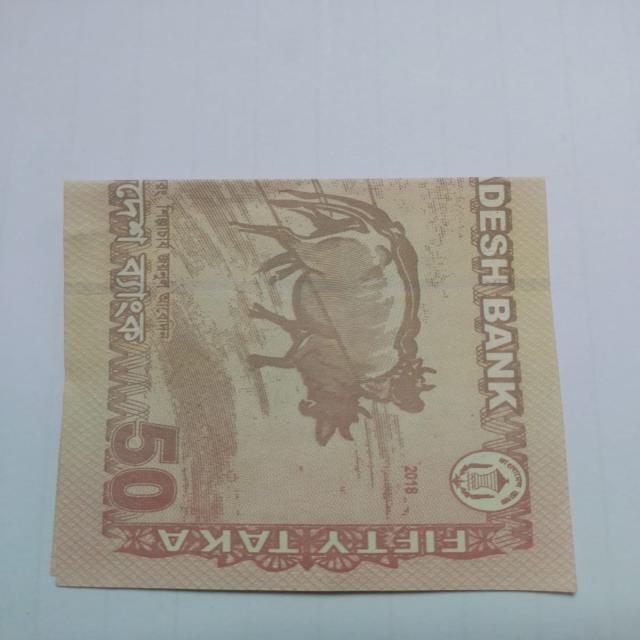Taka: (55, 171, 601, 598)
